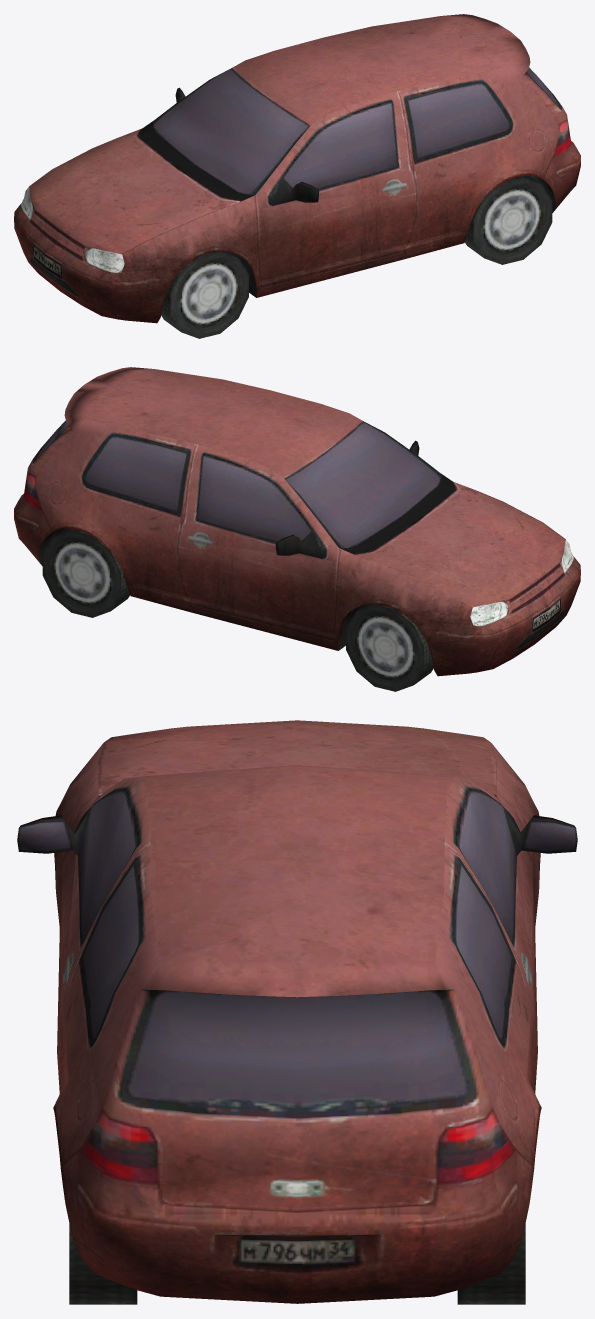
Rendered from Car 03.FBX.
3 renders of one model, top to bottom at view 1: azimuth 30°, elevation 25°; view 2: azimuth 150°, elevation 25°; view 3: azimuth 270°, elevation 25°, orthographic. The views are drawn at different scales.
Visible parts, largest first — view 1: Car 03; view 2: Car 03; view 3: Car 03.
Boxes of the visible parts, x1,y1,x2,y2 form: Car 03: (14, 14, 580, 338); Car 03: (14, 367, 580, 691); Car 03: (17, 720, 577, 1304).
Size of the model in its own units: 51.42 by 17.9 by 24.69.
